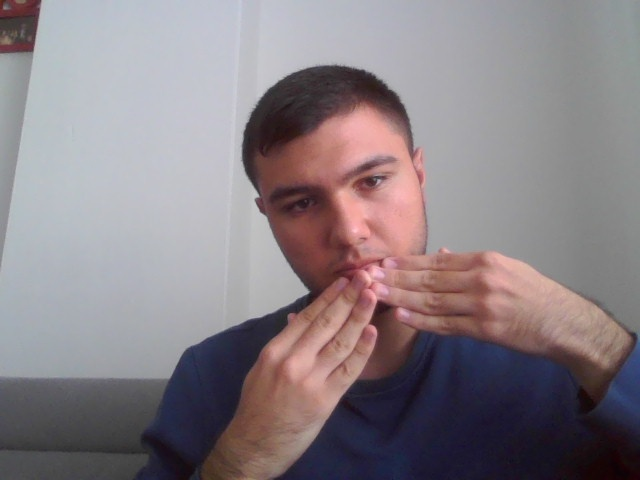thanks: (191, 252, 628, 455)
